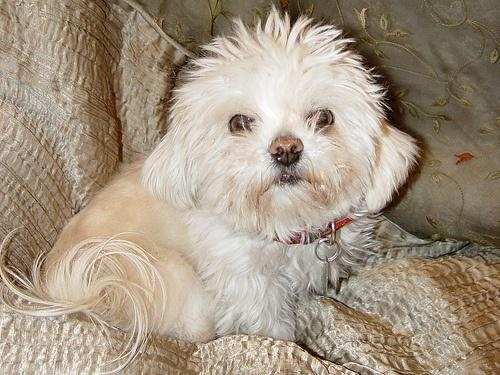dog: (31, 15, 419, 347)
